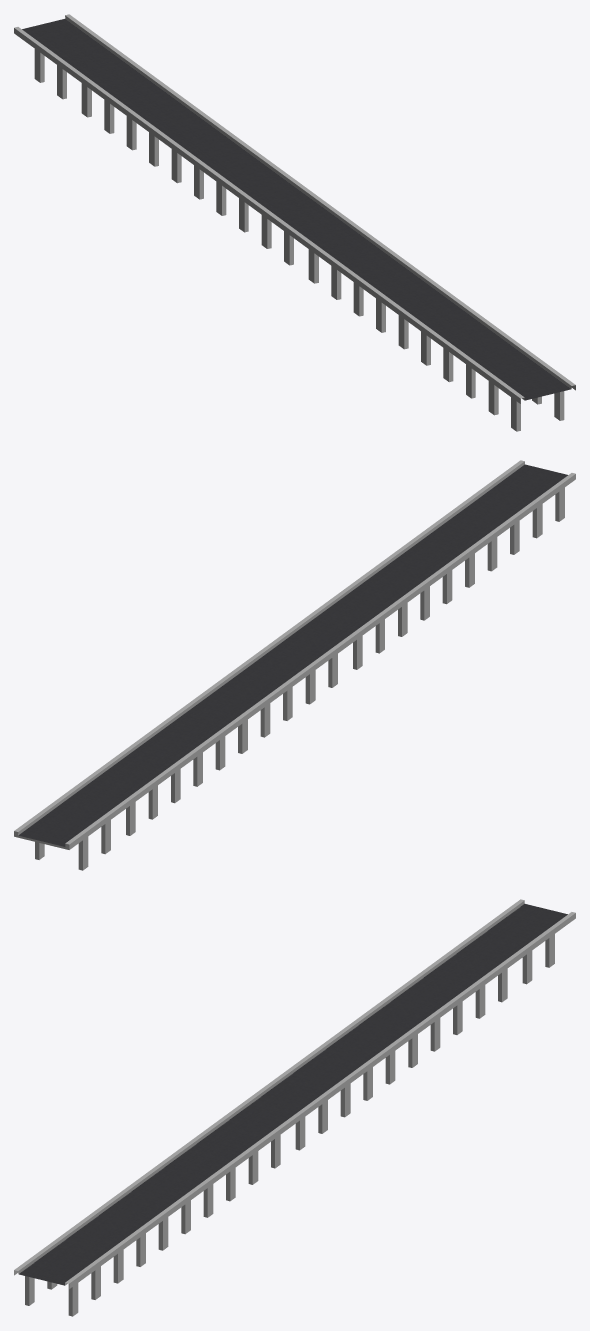
File: rail.glb
3 renders of one model, top to bottom at view 1: azimuth 30°, elevation 25°; view 2: azimuth 150°, elevation 25°; view 3: azimuth 330°, elevation 25°, orthographic.
Visible parts, largest first — view 1: rail; view 2: rail; view 3: rail.
Boxes of the visible parts, x1,y1,x2,y2 form: rail: (14, 14, 575, 431); rail: (14, 460, 575, 870); rail: (14, 899, 575, 1316).
Bounding box in the file's own units: 1.66 × 1.13 × 26.25.
2 materials, 1 textured.
